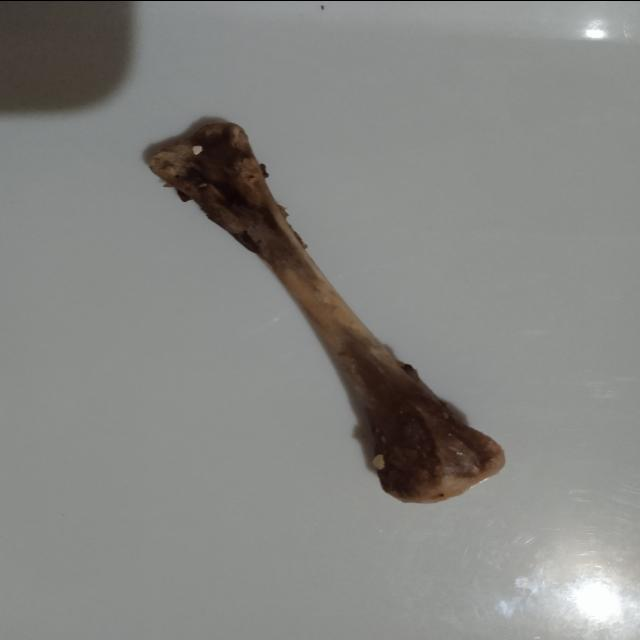bone: (136, 114, 514, 510)
